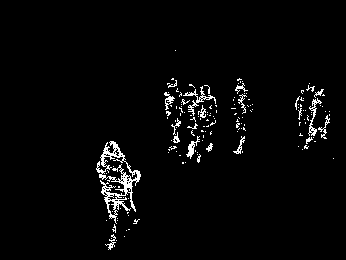person: (94, 140, 142, 250), (229, 75, 255, 156), (193, 84, 218, 161), (303, 85, 332, 150), (161, 75, 183, 155), (178, 81, 197, 160), (293, 80, 314, 139)
